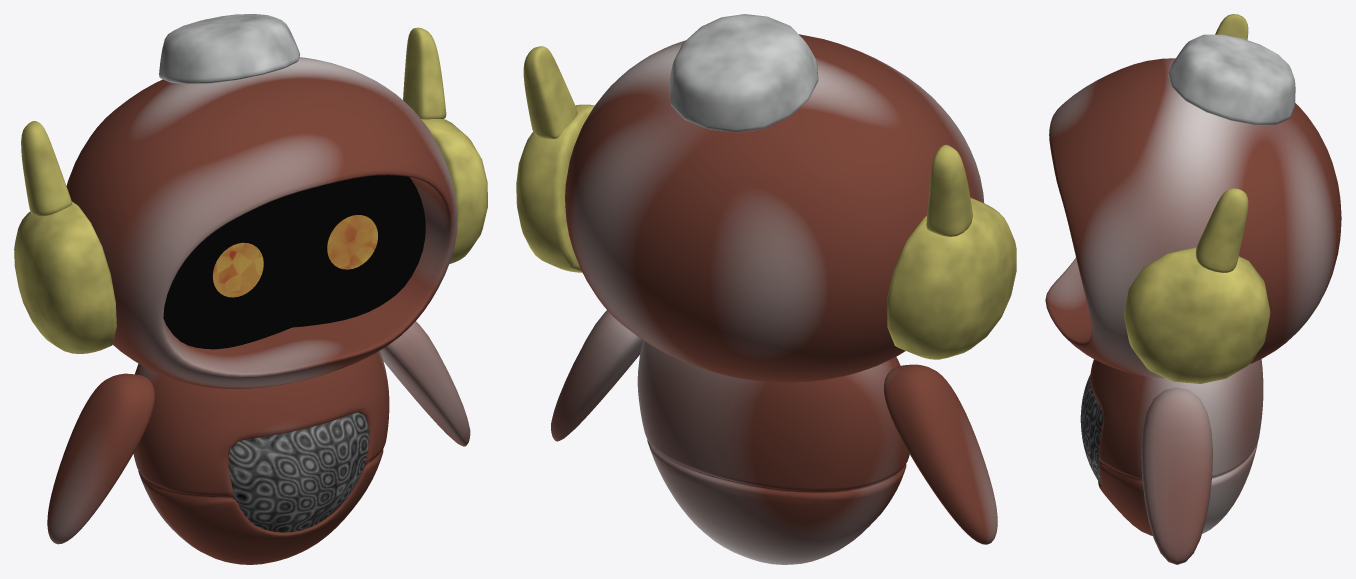
File: robot01Color02.fbx
3 views of the same model, side by side, from view 1: azimuth 30°, elevation 25°; view 2: azimuth 150°, elevation 25°; view 3: azimuth 270°, elevation 25° (orthographic). The views are drawn at different scales.
Parts seen in each view (by area): view 1: painel.002; view 2: painel.002; view 3: painel.002.
Boxes of the visible parts, <box> form: painel.002: <box>14,14,487,564</box>; painel.002: <box>516,14,1016,564</box>; painel.002: <box>1045,14,1341,564</box>.
Size of the model in its own units: 691 by 781 by 433.
Materials: 1 (1 with a texture image).
